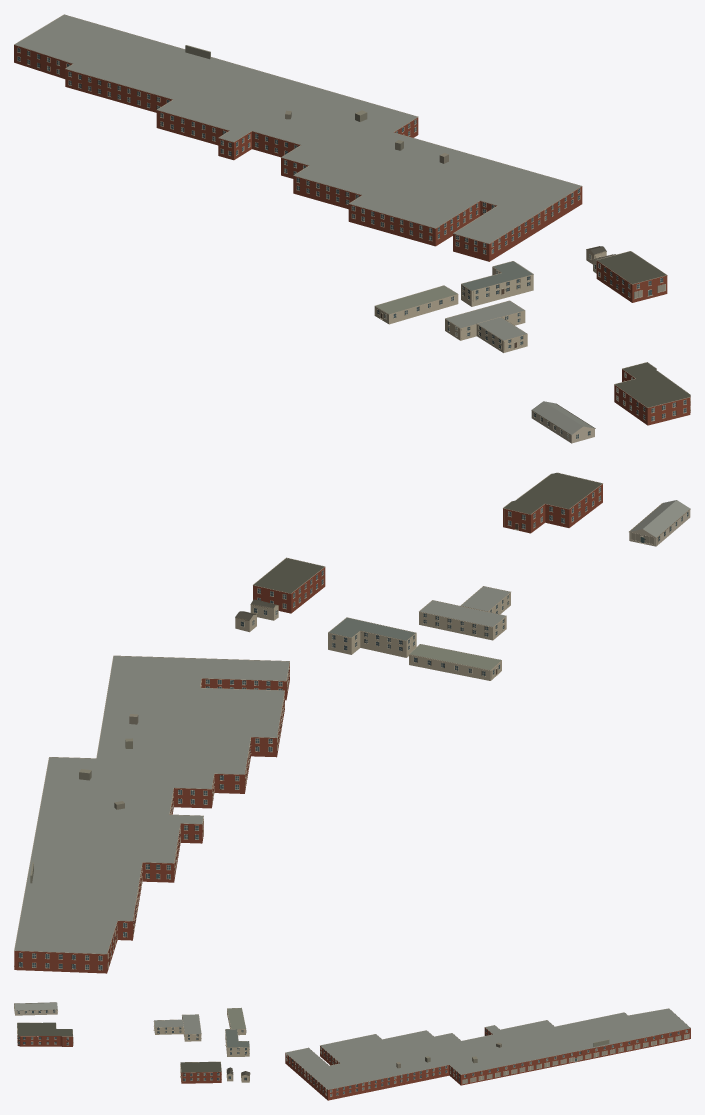
The picture shows the model from 3 angles, top to bottom: view 1: azimuth 30°, elevation 25°; view 2: azimuth 150°, elevation 25°; view 3: azimuth 270°, elevation 25°; orthographic projection. The views are drawn at different scales.
Visible parts, largest first — view 1: -10_0_271022932_0, -10_0_679109098_53; view 2: -10_0_271022932_0, -10_0_679109098_53; view 3: -10_0_271022932_0, -10_0_679109098_53, -10_0_679258306_54.
Part boxes in pixels (<box>): -10_0_271022932_0: <box>14,14,690,439</box>; -10_0_679109098_53: <box>14,45,690,425</box>; -10_0_271022932_0: <box>14,472,690,970</box>; -10_0_679109098_53: <box>14,484,644,973</box>; -10_0_271022932_0: <box>14,1002,690,1096</box>; -10_0_679109098_53: <box>17,1027,690,1100</box>; -10_0_679258306_54: <box>14,1004,57,1015</box>.
Bounding box in the file's own units: 118 × 14.26 × 415.
